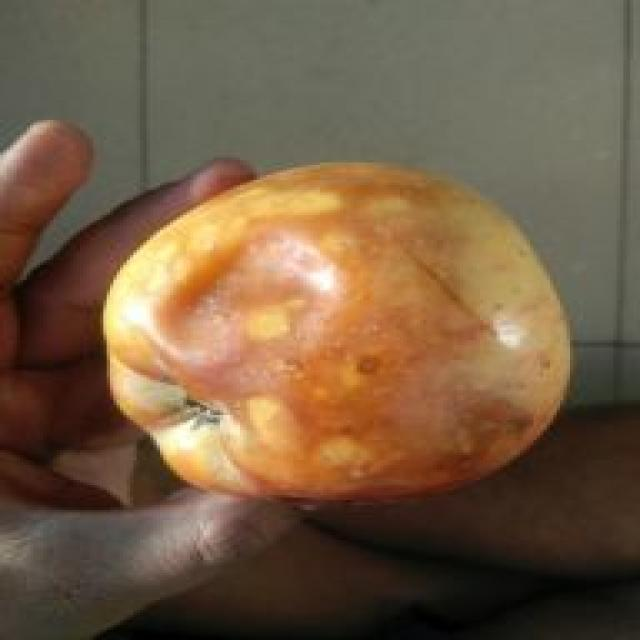Rotten_Apple: (96, 136, 614, 532)
